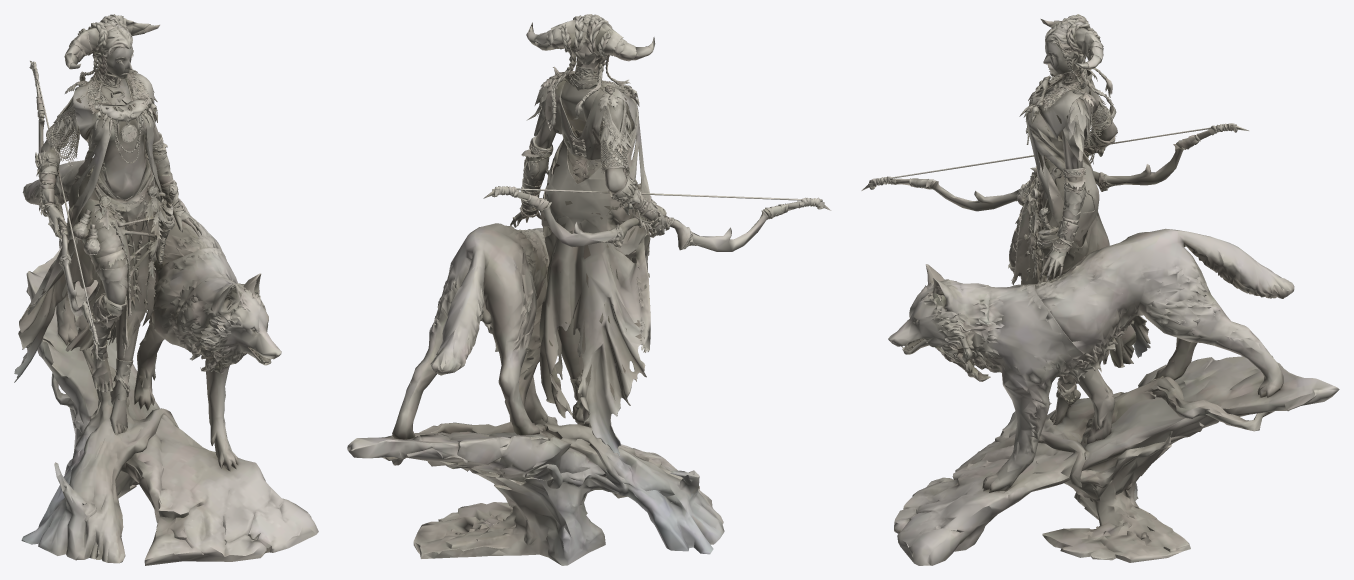
File: nemetona.glb
The picture shows the model from 3 angles, left to right: view 1: azimuth 30°, elevation 25°; view 2: azimuth 150°, elevation 25°; view 3: azimuth 270°, elevation 25°; orthographic projection. The views are drawn at different scales.
Bounding box in the file's own units: 0.1791 × 0.3302 × 0.2978.
1 material, 1 textured.
